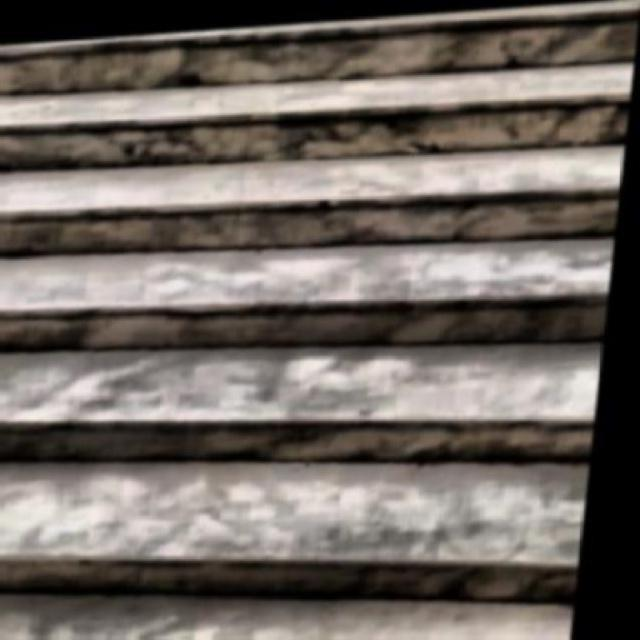stair: (2, 0, 631, 638)
